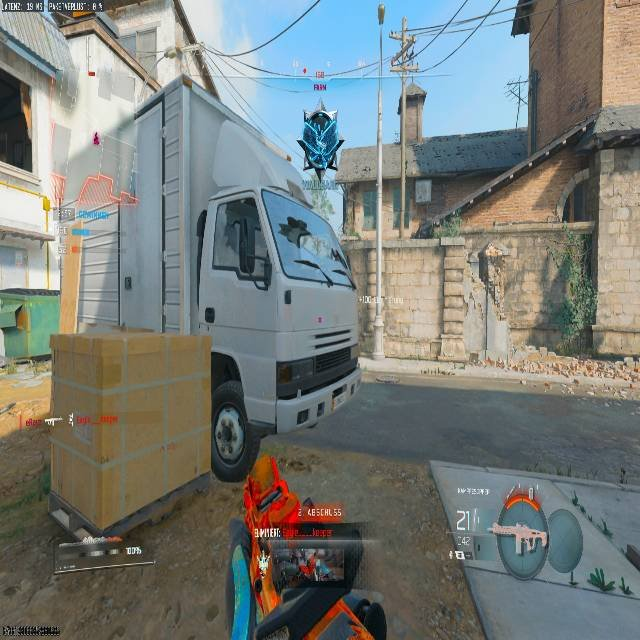head: (310, 107, 332, 127)
player: (296, 107, 342, 184)
